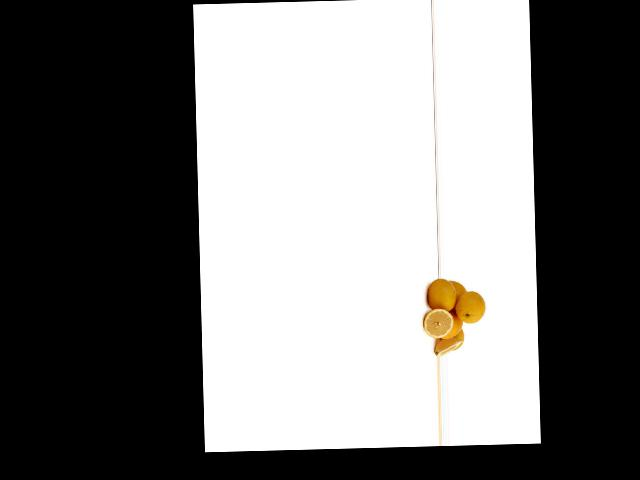lemon: (425, 278, 461, 314)
